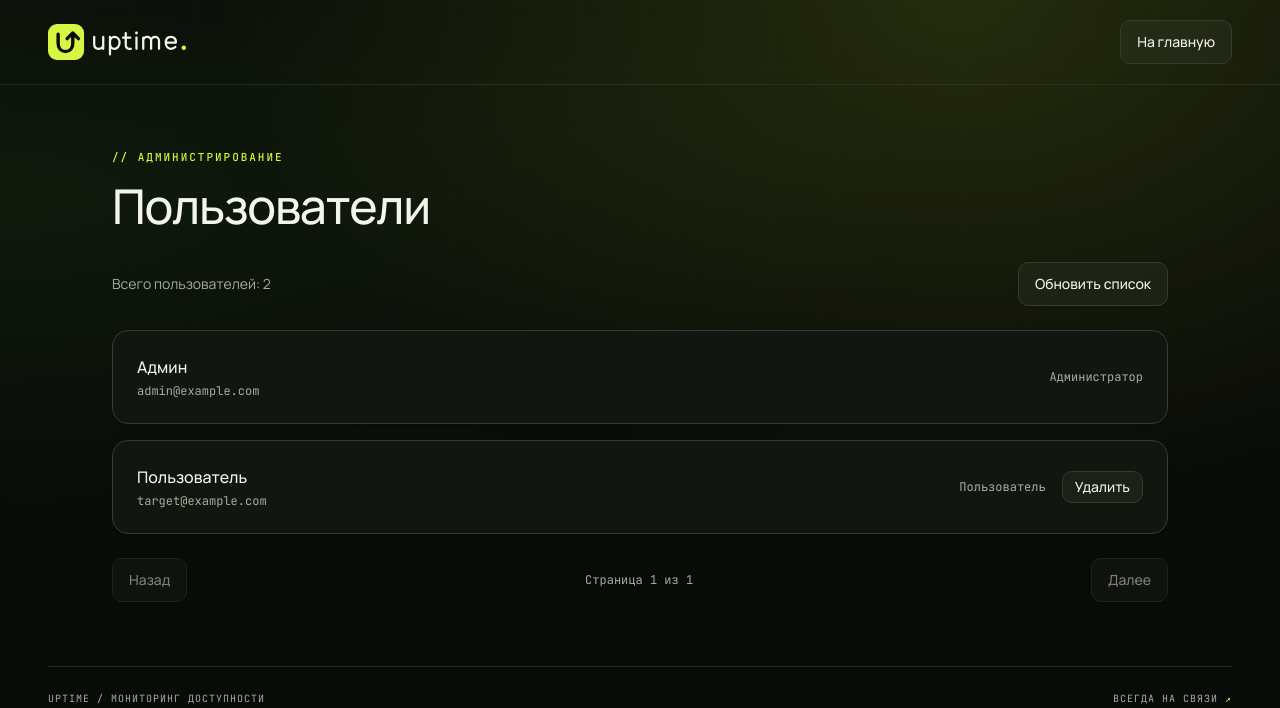
protects admins, confirms deletion, focuses cancel and blocks repeat deletes until reconciliation
The image size is (1280, 708).
Click the button with aria-label "Удалить target@example.com": [1102, 486] box [1062, 470, 1143, 502]
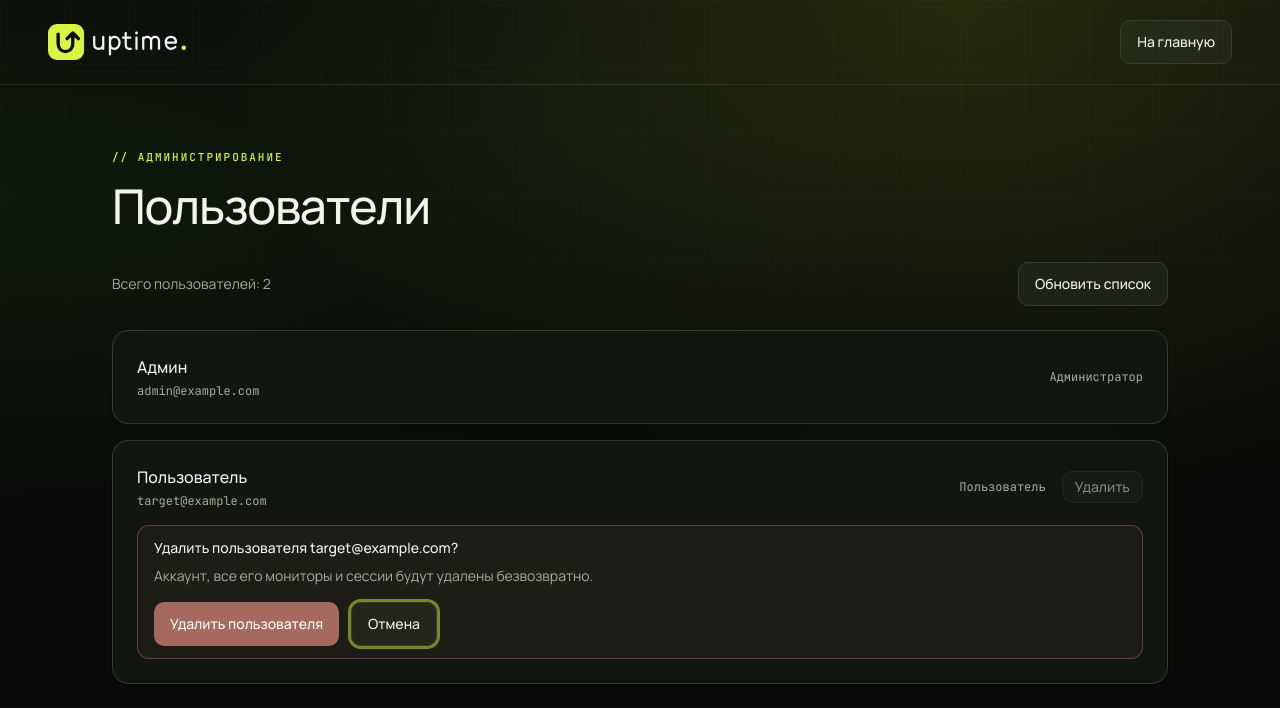
Press Escape in the button "Отмена", box [351, 602, 437, 646]
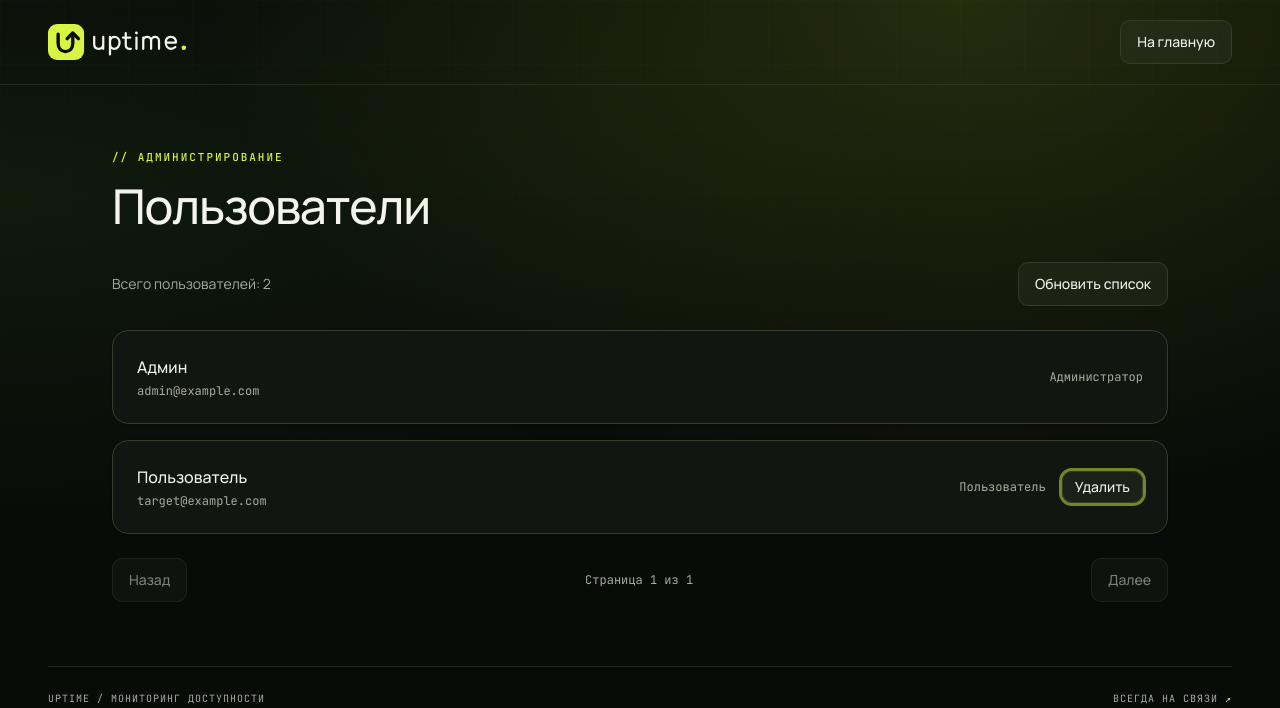
Click the button with aria-label "Удалить target@example.com": [1102, 486] box [1062, 470, 1143, 502]
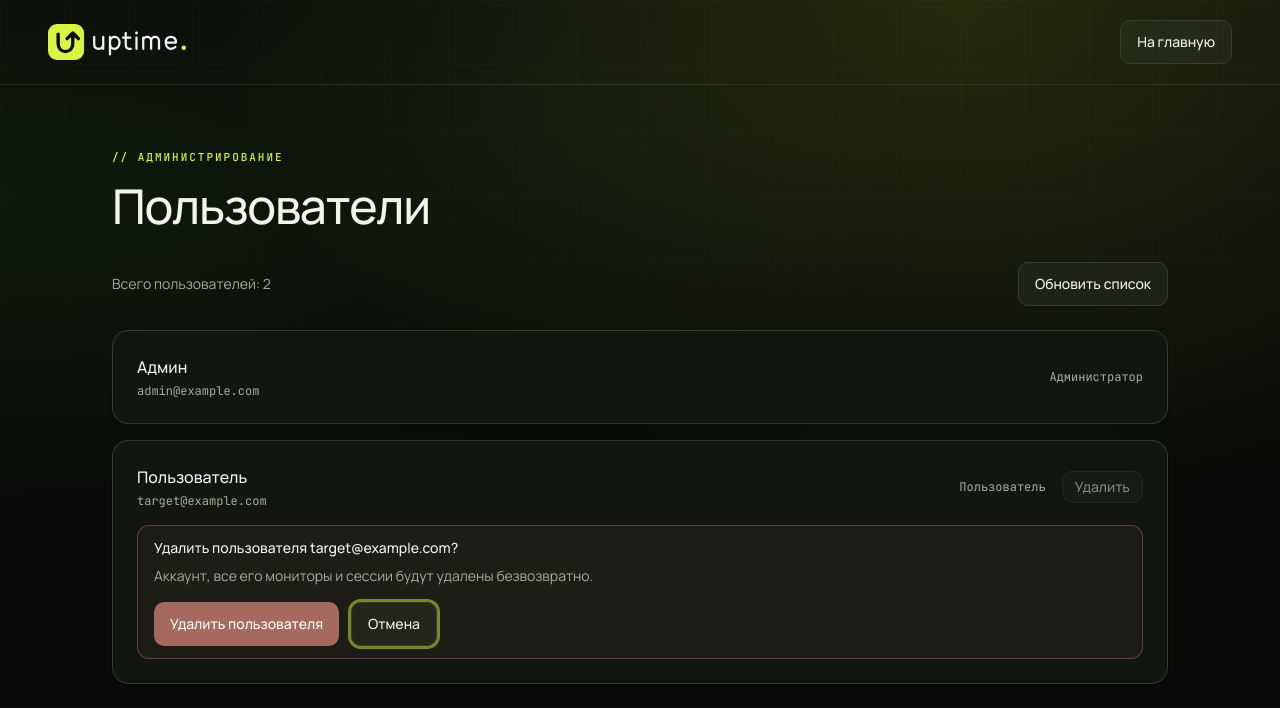
Click the button "Удалить пользователя": [247, 624] box [154, 602, 339, 646]
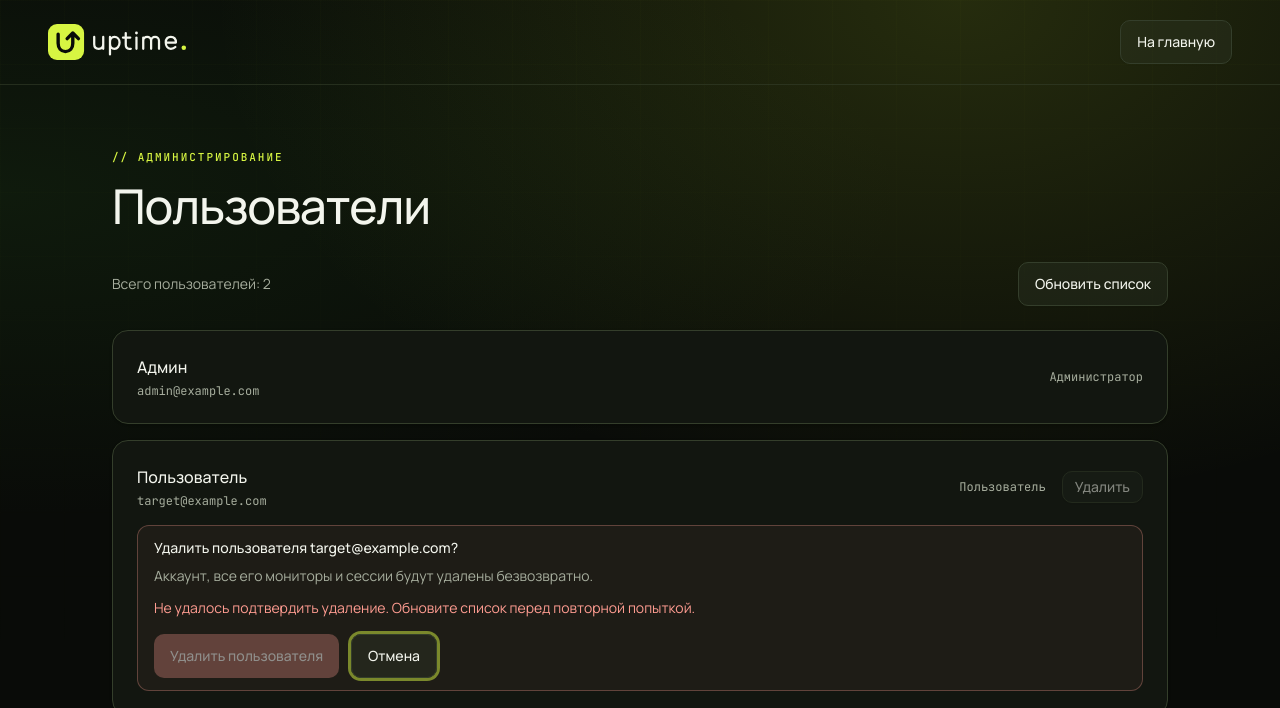
Check: the text "Не удалось подтвердить удаление. Обновите список перед повторной попыткой." is shown, box [154, 598, 695, 616]
Check: the button "Удалить пользователя" is disabled, box [154, 634, 339, 678]
Click the button "Отмена": [394, 656] box [351, 634, 437, 678]
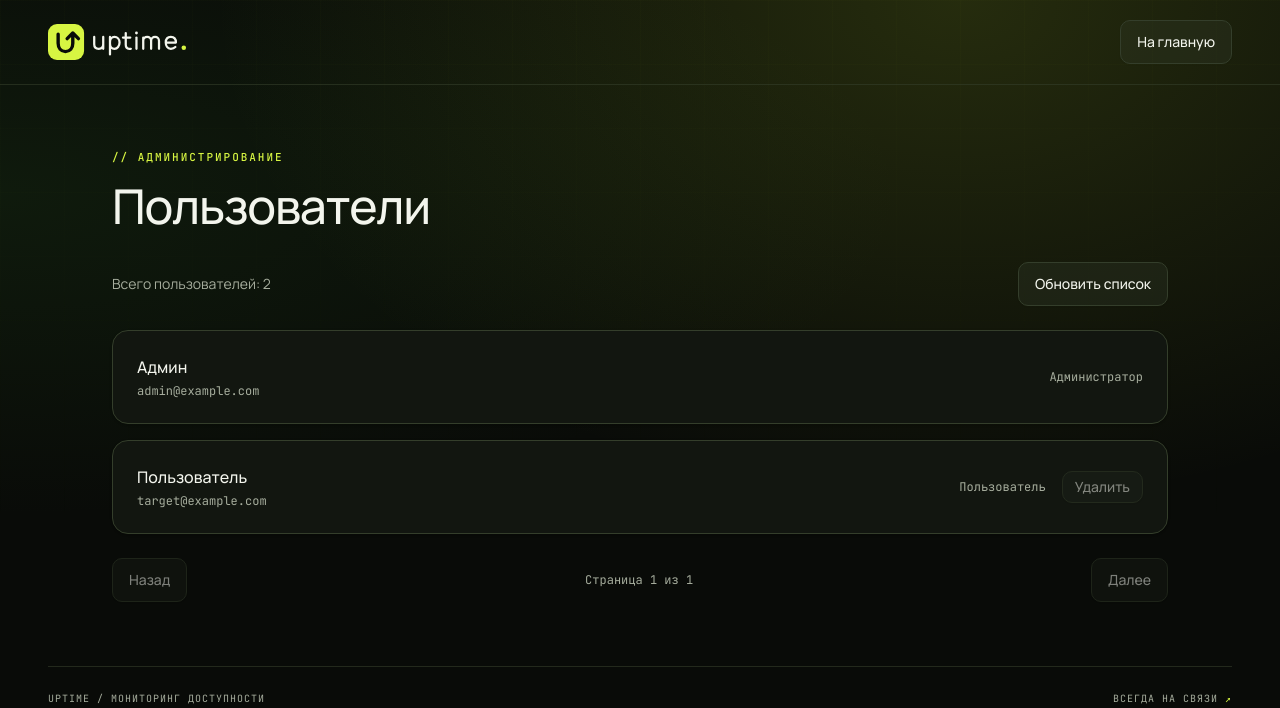
Check: the button with aria-label "Удалить target@example.com" is disabled, box [1062, 470, 1143, 502]
Click the button "Обновить список": [1093, 284] box [1018, 262, 1168, 306]
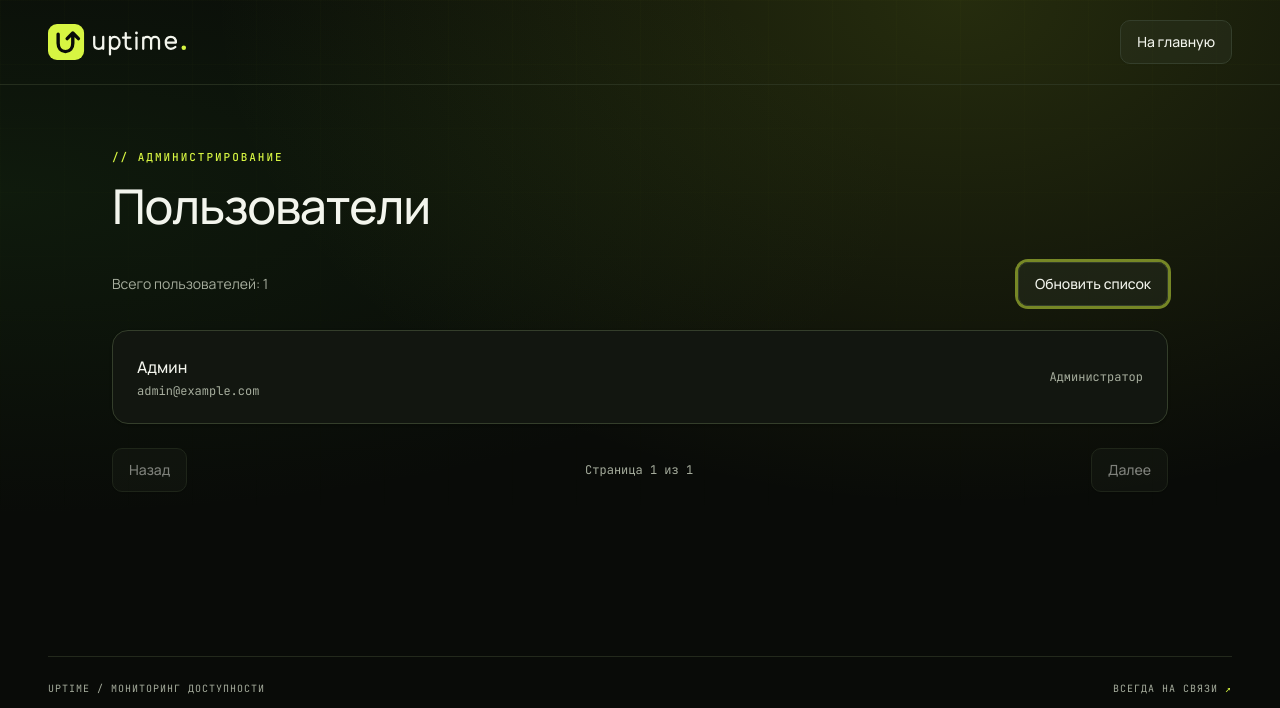
Check: the text "target@example.com" is gone
